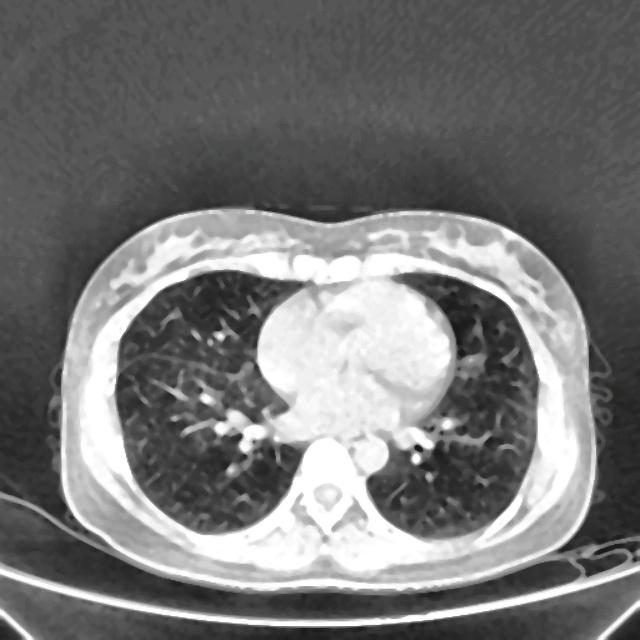covid: (58, 205, 599, 593)
